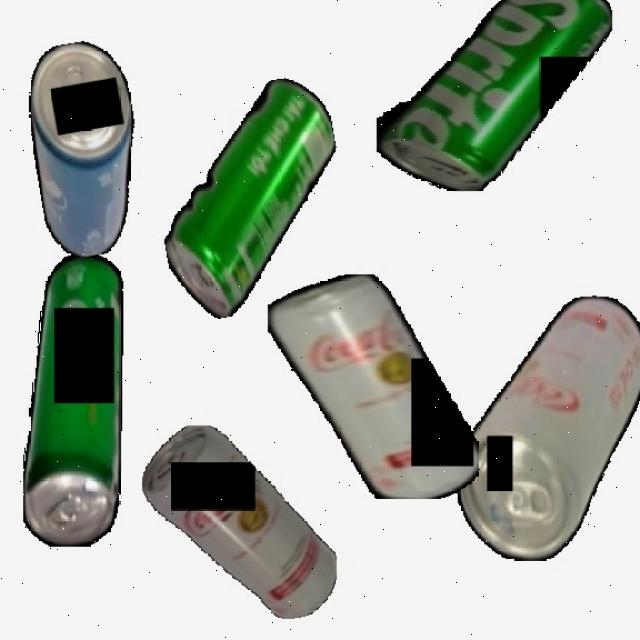debris: (141, 73, 361, 324), (456, 294, 640, 559), (267, 274, 479, 499), (376, 0, 612, 191), (141, 425, 337, 619), (16, 36, 156, 262), (22, 254, 126, 546)
